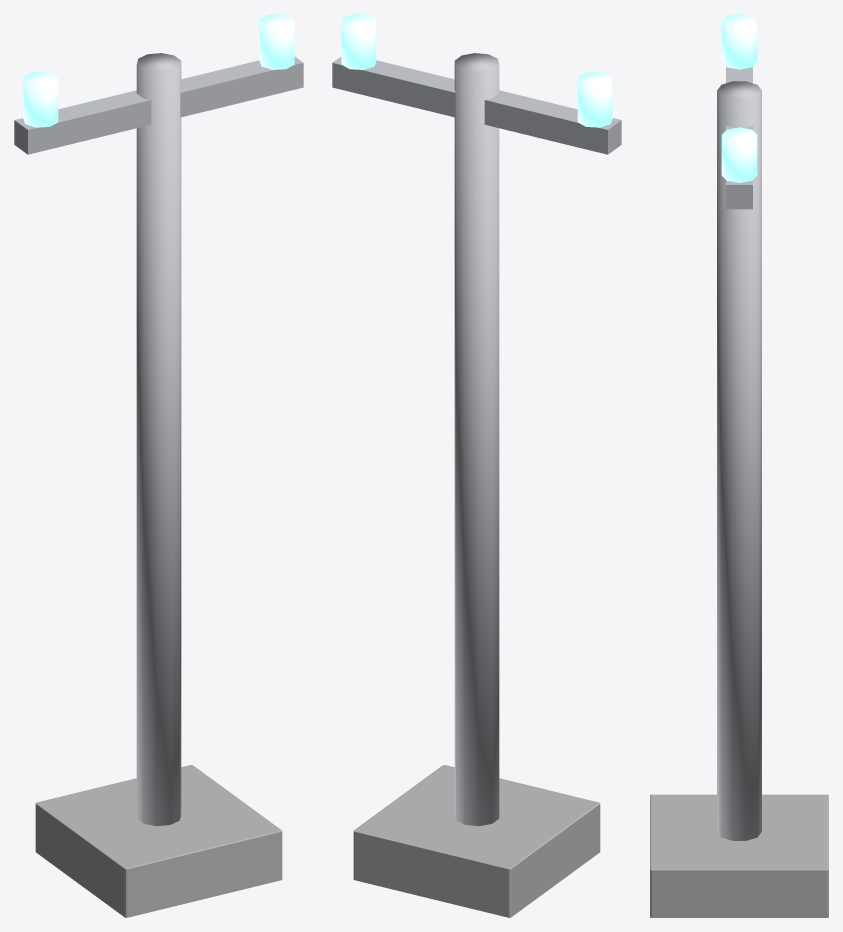
The model's file is pole.glb.
3 views of the same model, side by side, from view 1: azimuth 30°, elevation 25°; view 2: azimuth 150°, elevation 25°; view 3: azimuth 270°, elevation 25° (orthographic).
Visible parts, largest first — view 1: mast, base, cross, insulator0, insulator2; view 2: mast, base, cross, insulator0, insulator2; view 3: mast, base, insulator0, insulator2, cross.
Boxes of the visible parts, x1,y1,x2,y2 form: mast: (136,53,181,826); base: (35,765,282,917); cross: (14,56,303,154); insulator0: (23,71,58,127); insulator2: (259,14,294,69); mast: (454,53,499,826); base: (353,765,600,917); cross: (332,56,621,154); insulator0: (577,71,612,127); insulator2: (341,14,376,69); mast: (717,81,761,840); base: (650,794,828,917); insulator0: (721,14,757,69); insulator2: (721,127,757,182); cross: (726,67,752,209).
Size of the model in its own units: 0.7 by 1.98 by 0.4.
